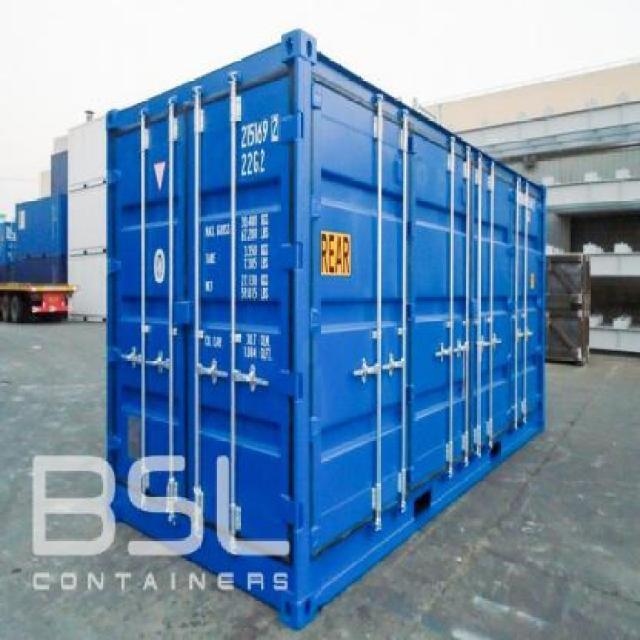ISO: (238, 152, 268, 174)
container_number: (244, 118, 284, 142)
